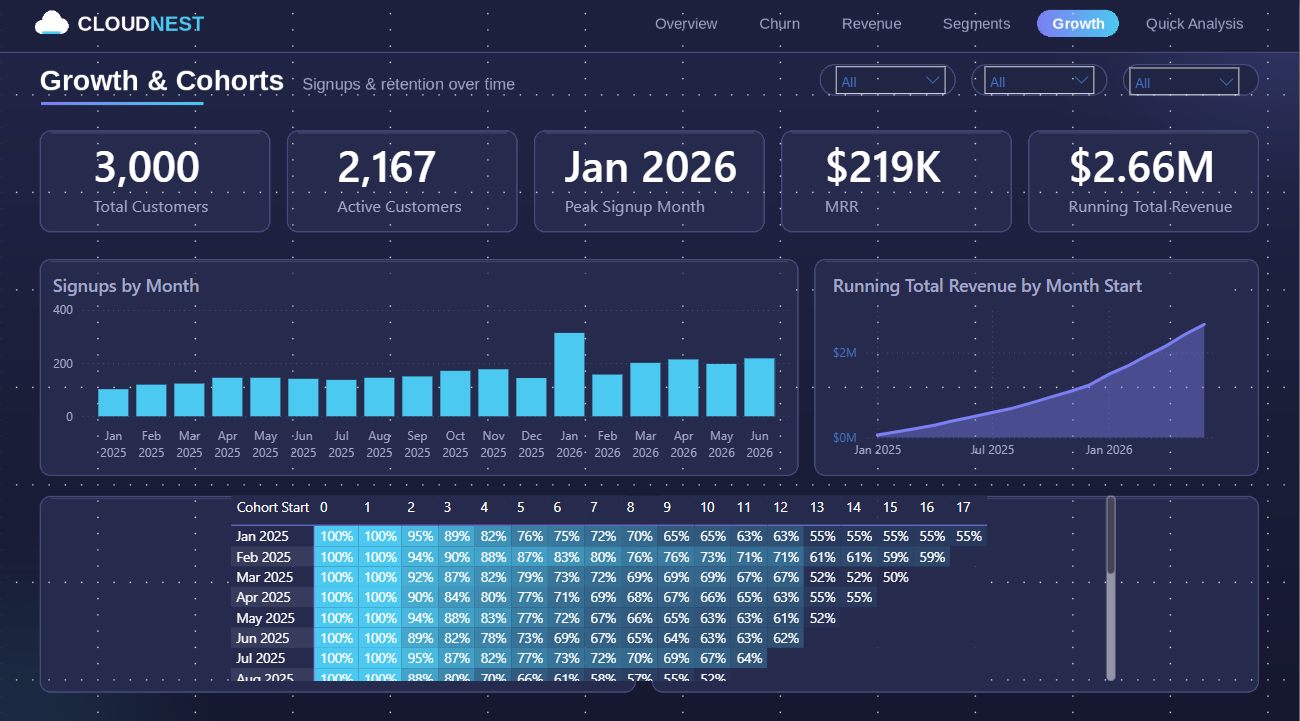

What the dashboard file says about the page in this screenshot:
{"tool":"powerbi","page":{"name":"Growth & Cohorts","canvas":[1280,720],"ordinal":5},"visuals":[{"type":"slicer","fields":{"Values":["customers.region"]},"box":[814,58,128,64],"z":0},{"type":"slicer","fields":{"Values":["customers.industry"]},"box":[960,58,128,64],"z":1000},{"type":"slicer","fields":{"Values":["subscriptions.billing_cycle"]},"box":[1103,59,128,63],"z":2000},{"type":"cardVisual","fields":{"Data":["_Measures.Total Customers"]},"box":[64,112,208,128],"z":3000},{"type":"cardVisual","fields":{"Data":["_Measures.Peak Signup Month"]},"box":[528,112,256,128],"z":4000},{"type":"cardVisual","fields":{"Data":["_Measures.MRR"]},"box":[784,112,208,128],"z":5000},{"type":"cardVisual","fields":{"Data":["_Measures.Running Total Revenue"]},"box":[1024,112,224,128],"z":6000},{"type":"cardVisual","fields":{"Data":["_Measures.Active Customers"]},"box":[304,112,208,128],"z":7000},{"type":"clusteredColumnChart","title":"Signups by Month","fields":{"Y":["_Measures.Total Customers"],"Category":["customers.Cohort Start"]},"box":[48,272,736,192],"z":8000},{"type":"areaChart","fields":{"Category":["DateTable.Month Start"],"Y":["_Measures.Running Total Revenue"]},"box":[816,272,400,192],"z":9000},{"type":"pivotTable","fields":{"Rows":["customers.Cohort Start"],"Values":["_Measures.Cohort Retention %"],"Columns":["MonthsSince.Value"]},"box":[224,486,880,192],"z":10000},{"type":"actionButton","box":[736,11,80,32],"z":11000},{"type":"actionButton","box":[825,12,80,32],"z":12000},{"type":"actionButton","box":[927,12,80,32],"z":13000},{"type":"actionButton","box":[640,16,80,32],"z":14000},{"type":"actionButton","box":[1130,13,96,32],"z":15000}]}

Visuals, with their boxes on the page's 1280x720 design canvas (x1, y1, x2, y2). These are canvas units, not pixel positions in the 1300x721 screenshot, which may show the page scaled, cropped or inside an application window:
slicer - customers.region: box=[814, 58, 942, 122]
slicer - customers.industry: box=[960, 58, 1088, 122]
slicer - subscriptions.billing_cycle: box=[1103, 59, 1231, 122]
cardVisual - _Measures.Total Customers: box=[64, 112, 272, 240]
cardVisual - _Measures.Peak Signup Month: box=[528, 112, 784, 240]
cardVisual - _Measures.MRR: box=[784, 112, 992, 240]
cardVisual - _Measures.Running Total Revenue: box=[1024, 112, 1248, 240]
cardVisual - _Measures.Active Customers: box=[304, 112, 512, 240]
"Signups by Month" clusteredColumnChart: box=[48, 272, 784, 464]
areaChart - DateTable.Month Start x _Measures.Running Total Revenue: box=[816, 272, 1216, 464]
pivotTable - customers.Cohort Start x _Measures.Cohort Retention %: box=[224, 486, 1104, 678]
actionButton: box=[736, 11, 816, 43]
actionButton: box=[825, 12, 905, 44]
actionButton: box=[927, 12, 1007, 44]
actionButton: box=[640, 16, 720, 48]
actionButton: box=[1130, 13, 1226, 45]
